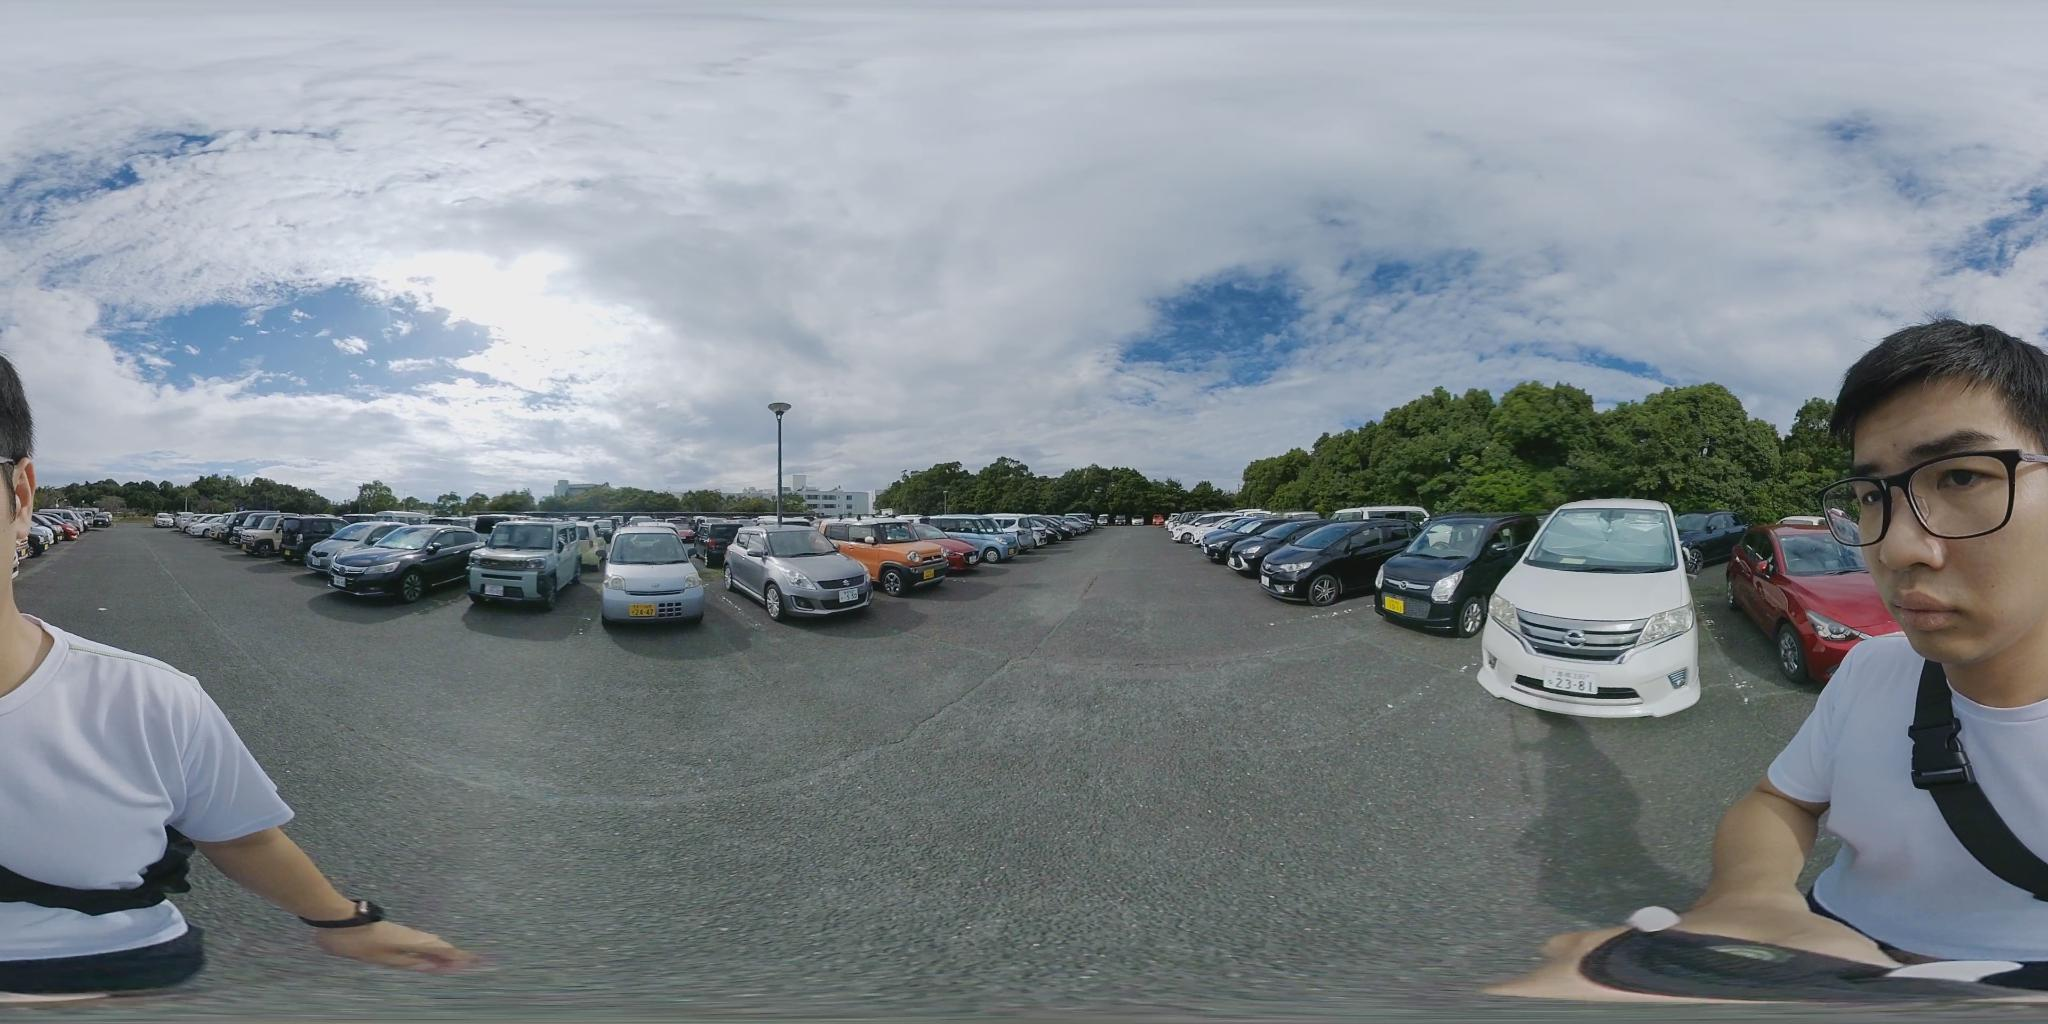car: (1476, 498, 1712, 717), (1727, 519, 1911, 687), (1369, 513, 1529, 635), (725, 528, 871, 623), (310, 520, 490, 596), (1258, 519, 1426, 600), (472, 522, 586, 613), (603, 529, 703, 626), (820, 521, 943, 590), (1216, 517, 1324, 568), (1198, 516, 1280, 566), (231, 512, 294, 554)
